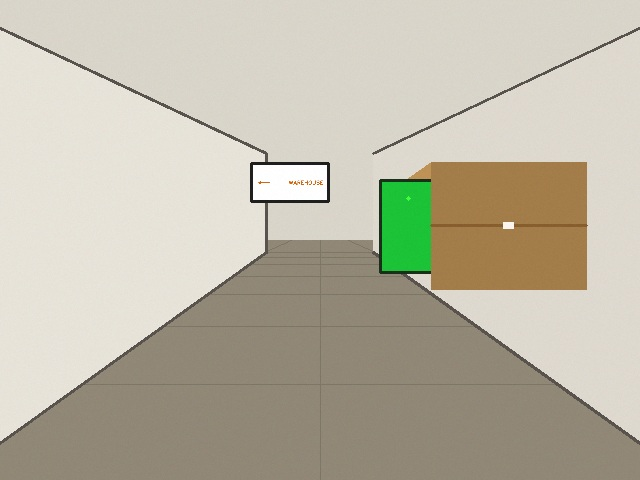box: (408, 162, 586, 289)
charging_station: (380, 180, 435, 272)
directional_sign: (251, 163, 328, 201)
